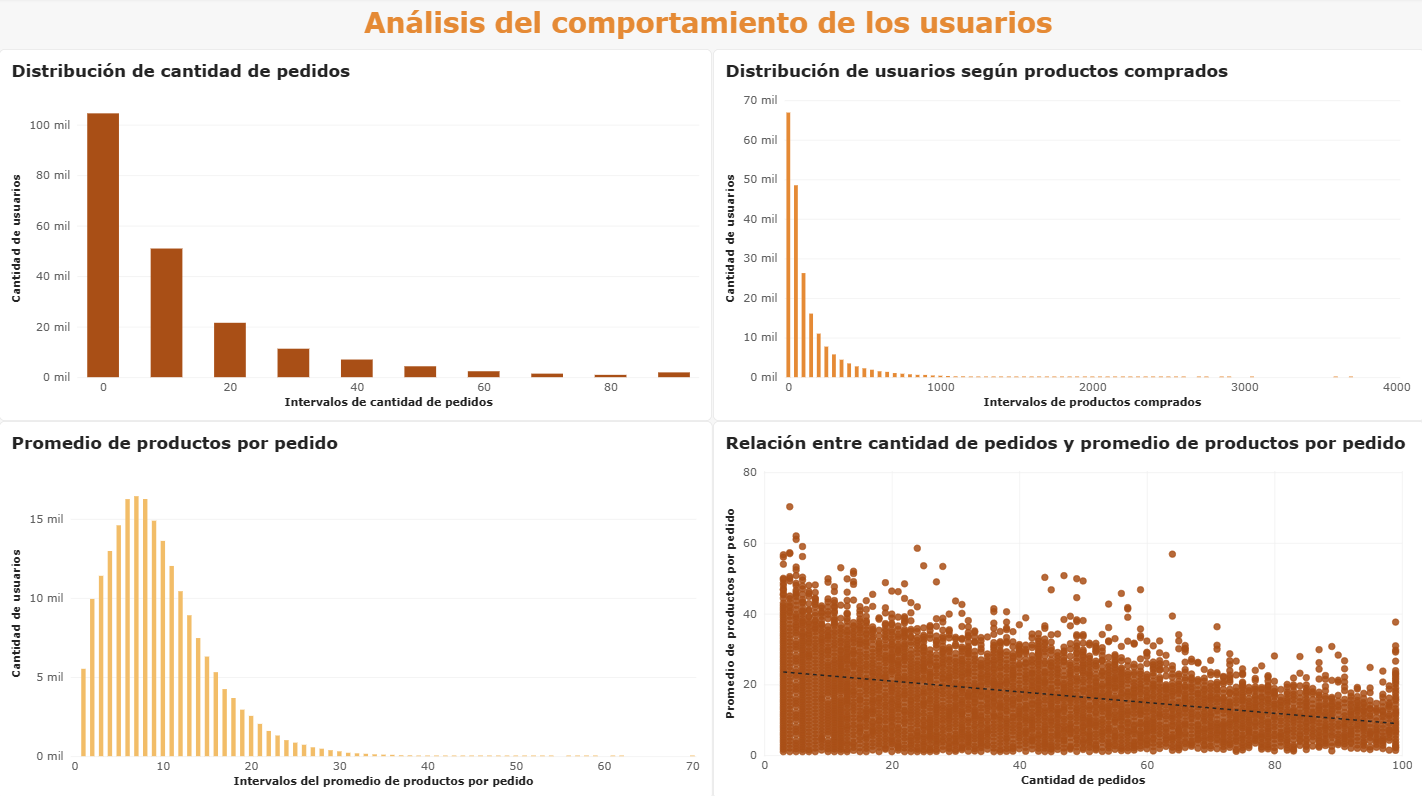

What the dashboard file says about the page in this screenshot:
{"tool":"powerbi","page":{"name":"Usuarios","canvas":[1920,1080],"ordinal":1},"visuals":[{"type":"columnChart","title":"Distribución de cantidad de pedidos","fields":{"Category":["public mart_user_behavior (3).Intervalos de pedidos"],"Y":["Count(public mart_user_behavior (3).usuario_id)"]},"box":[0,70,960.1,500.9],"z":0},{"type":"columnChart","title":"Distribución de usuarios según productos comprados","fields":{"Category":["public mart_user_behavior (3).Intervalos de productos"],"Y":["Count(public mart_user_behavior (3).usuario_id)"]},"box":[961.5,70,958.8,500.9],"z":1000},{"type":"columnChart","title":"Promedio de productos por pedido","fields":{"Category":["public mart_user_behavior (3).Intervalos de promedio"],"Y":["Count(public mart_user_behavior (3).usuario_id)"]},"box":[0,571,961.5,510.4],"z":2000},{"type":"scatterChart","title":"Relación entre cantidad de pedidos y promedio de productos por pedido","fields":{"Category":["public mart_user_behavior (3).usuario_id"],"X":["Sum(public mart_user_behavior (3).cantidad_pedidos)"],"Y":["Avg(public mart_user_behavior (3).promedio_productos_por_pedido)"]},"box":[961.5,571,958.8,509],"z":3000},{"type":"textbox","box":[491.5,10.8,927.8,49.8],"z":4000}]}

Visuals, with their boxes in screenshot pixels (x1, y1, x2, y2), scaled from the page's 1920x1080 canvas onto the 1422x796 screenshot:
"Distribución de cantidad de pedidos" columnChart: BBox(0, 52, 711, 421)
"Distribución de usuarios según productos comprados" columnChart: BBox(712, 52, 1421, 421)
"Promedio de productos por pedido" columnChart: BBox(0, 421, 712, 795)
"Relación entre cantidad de pedidos y promedio de productos por pedido" scatterChart: BBox(712, 421, 1421, 795)
textbox: BBox(364, 8, 1051, 45)
